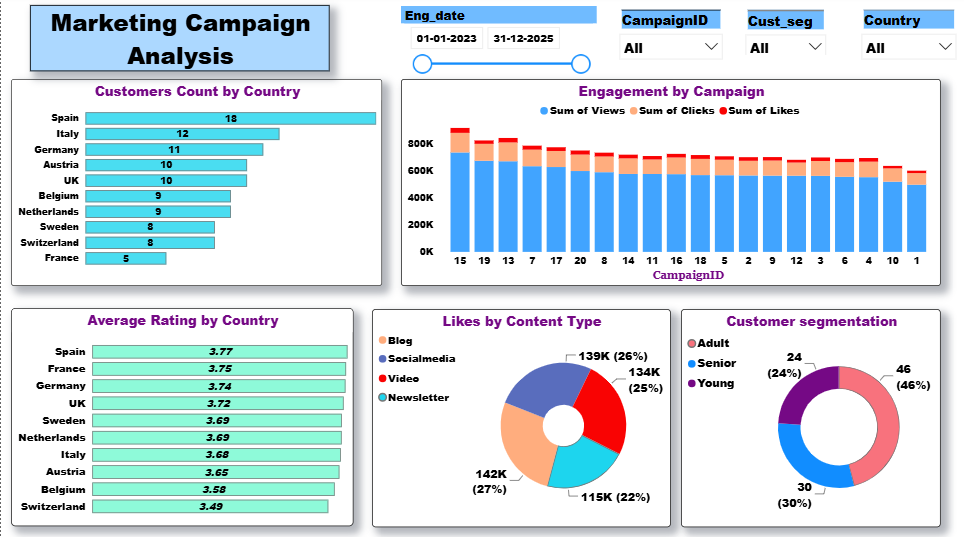

What the dashboard file says about the page in this screenshot:
{"tool":"powerbi","page":{"name":"Page 1","canvas":[1280,720],"ordinal":1},"visuals":[{"type":"barChart","title":"Customers Count by Country","fields":{"Category":["Countries.Country"],"Y":["CountNonNull(Customers.Custid)"]},"box":[13.3,110,493.3,275],"z":0},{"type":"columnChart","title":"Engagement by Campaign","fields":{"Category":["Engagement data.CampaignID"],"Y":["Sum(Engagement data.Views)","Sum(Engagement data.Clicks)","Sum(Engagement data.Likes)"]},"box":[531.7,110,716.7,275],"z":1000},{"type":"donutChart","title":"Likes by Content Type","fields":{"Category":["Engagement data.ContentType"],"Y":["Sum(Engagement data.Likes)"]},"box":[493.2,415.6,396.6,289.8],"z":2000},{"type":"barChart","title":"Average Rating by Country","fields":{"Category":["Countries.Country"],"Y":["Avg(Customer review.Rating)"]},"box":[13.3,415,455,290],"z":3000},{"type":"donutChart","title":" Customer segmentation","fields":{"Category":["Customers.Customer segment"],"Y":["CountNonNull(Customers.Custid)"]},"box":[902.9,415.6,345.4,289.8],"z":4000},{"type":"textbox","box":[740.8,24.1,261.9,86.1],"z":5000},{"type":"slicer","fields":{"Values":["Countries.Country"]},"box":[1133.6,13.8,146.4,86.1],"z":6000},{"type":"slicer","fields":{"Values":["Customers.Customer segment"]},"box":[978.5,13.8,127.5,65.5],"z":7000},{"type":"slicer","fields":{"Values":["Engagement data.CampaignID"]},"box":[811.4,13.8,156,67],"z":8000},{"type":"slicer","title":"Eng_date","fields":{"Values":["Engagement data.Eng_date"]},"box":[531.2,13.2,260,92],"z":9000},{"type":"textbox","title":"Marketing Campaign  Analysis","box":[38,11.7,398,87.8],"z":10000}]}

Visuals, with their boxes in screenshot pixels (x1, y1, x2, y2), scaled from the page's 1280x720 canvas onto the 964x537 screenshot:
"Customers Count by Country" barChart: pyautogui.locateOnScreen(10, 82, 382, 287)
"Engagement by Campaign" columnChart: pyautogui.locateOnScreen(400, 82, 940, 287)
"Likes by Content Type" donutChart: pyautogui.locateOnScreen(371, 310, 670, 526)
"Average Rating by Country" barChart: pyautogui.locateOnScreen(10, 310, 353, 526)
" Customer segmentation" donutChart: pyautogui.locateOnScreen(680, 310, 940, 526)
textbox: pyautogui.locateOnScreen(558, 18, 755, 82)
slicer - Countries.Country: pyautogui.locateOnScreen(854, 10, 963, 75)
slicer - Customers.Customer segment: pyautogui.locateOnScreen(737, 10, 833, 59)
slicer - Engagement data.CampaignID: pyautogui.locateOnScreen(611, 10, 729, 60)
"Eng_date" slicer: pyautogui.locateOnScreen(400, 10, 596, 78)
"Marketing Campaign  Analysis" textbox: pyautogui.locateOnScreen(29, 9, 328, 74)
